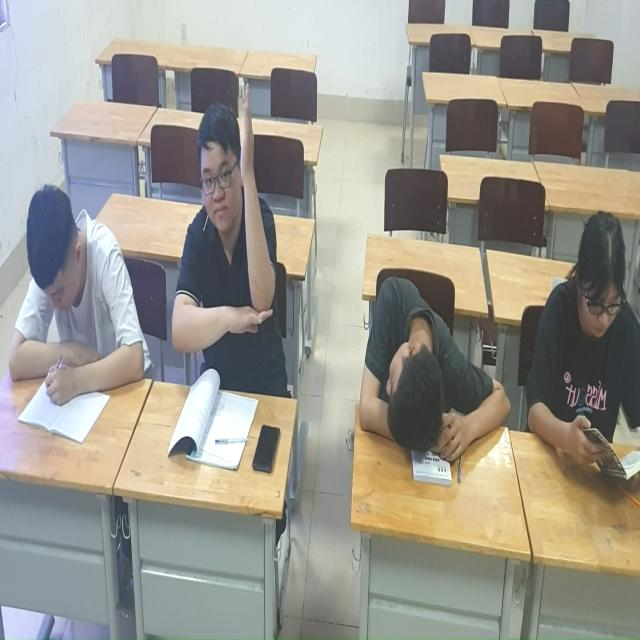raise_hand: (156, 77, 303, 464)
read: (6, 157, 153, 445), (514, 204, 640, 502)
sleep: (343, 282, 514, 490)
